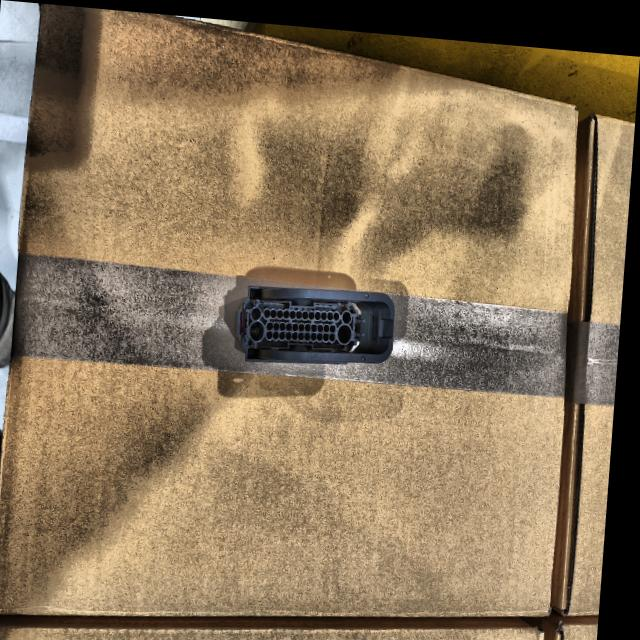P38: (239, 280, 398, 357)
